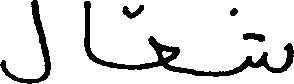ا: (83, 0, 88, 60)
ش: (228, 6, 291, 76)
ع: (122, 3, 177, 72)
ل: (0, 0, 50, 82)
